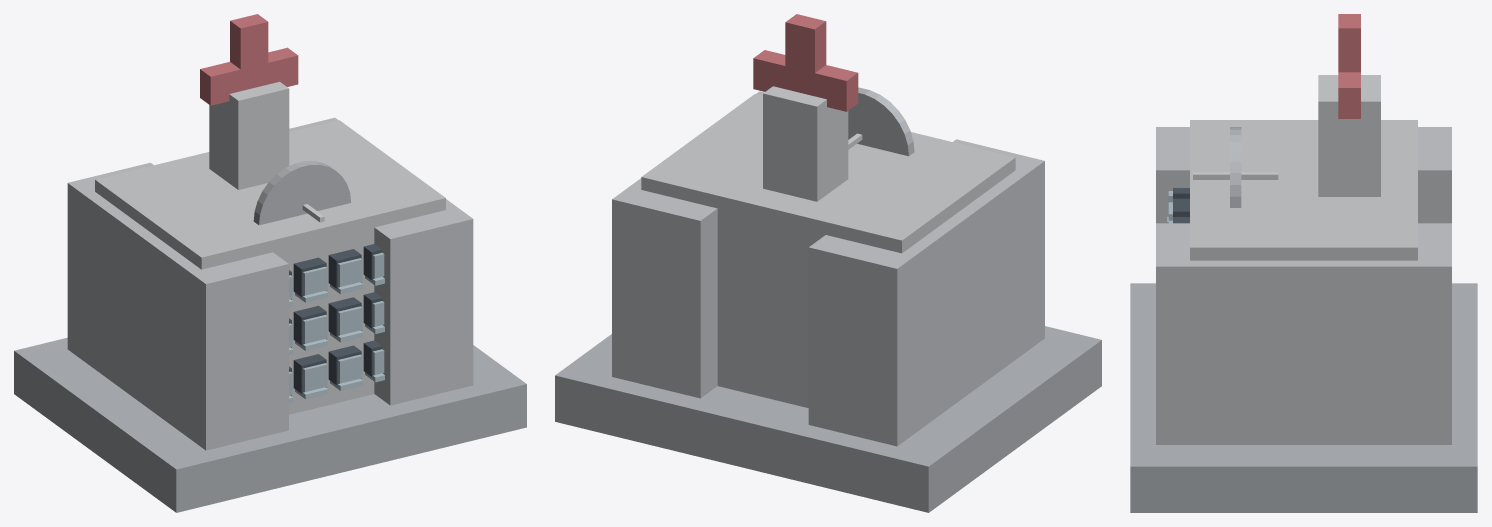
The model's file is hospital.glb.
3 renders of one model, left to right at view 1: azimuth 30°, elevation 25°; view 2: azimuth 150°, elevation 25°; view 3: azimuth 270°, elevation 25°, orthographic. The views are drawn at different scales.
Visible parts, largest first — view 1: world; view 2: world; view 3: world.
Boxes of the visible parts, x1,y1,x2,y2 form: world: (14, 14, 526, 512); world: (555, 14, 1101, 512); world: (1130, 14, 1477, 512).
Size of the model in its own units: 1.52 by 1.55 by 1.22.
